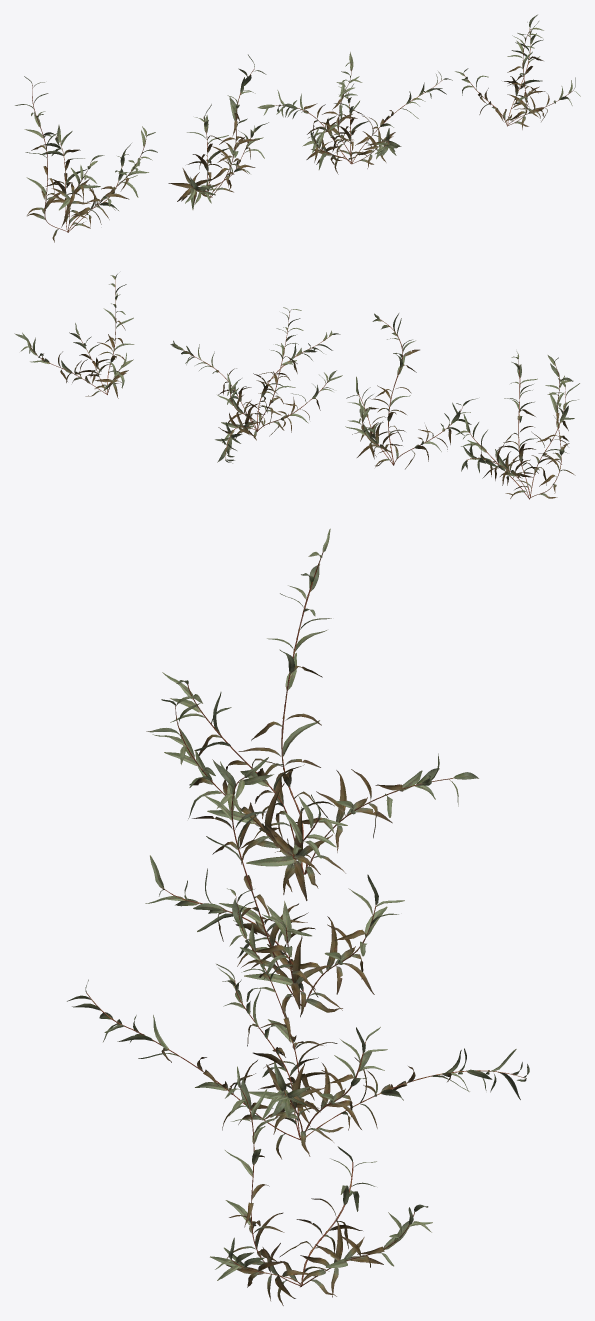
The model's file is shrub_02_draco.glb.
The picture shows the model from 3 angles, top to bottom: view 1: azimuth 30°, elevation 25°; view 2: azimuth 150°, elevation 25°; view 3: azimuth 270°, elevation 25°; orthographic projection. The views are drawn at different scales.
Visible parts, largest first — view 1: shrub_02_c, shrub_02_a, shrub_02_b, shrub_02_d; view 2: shrub_02_a, shrub_02_c, shrub_02_b, shrub_02_d; view 3: shrub_02_a, shrub_02_c, shrub_02_b, shrub_02_d.
Boxes of the visible parts, x1=… form: shrub_02_c: x1=257, y1=52, x2=452, y2=174; shrub_02_a: x1=15, y1=76, x2=157, y2=242; shrub_02_b: x1=168, y1=54, x2=268, y2=209; shrub_02_d: x1=455, y1=14, x2=580, y2=129; shrub_02_a: x1=456, y1=351, x2=579, y2=499; shrub_02_c: x1=170, y1=307, x2=342, y2=463; shrub_02_b: x1=345, y1=313, x2=477, y2=469; shrub_02_d: x1=14, y1=274, x2=134, y2=398; shrub_02_a: x1=146, y1=528, x2=478, y2=900; shrub_02_c: x1=67, y1=888, x2=529, y2=1159; shrub_02_b: x1=145, y1=757, x2=404, y2=1017; shrub_02_d: x1=210, y1=1066, x2=432, y2=1305.
Bounding box in the file's own units: 6.05 × 1.7 × 2.28.
1 material, 1 textured.
